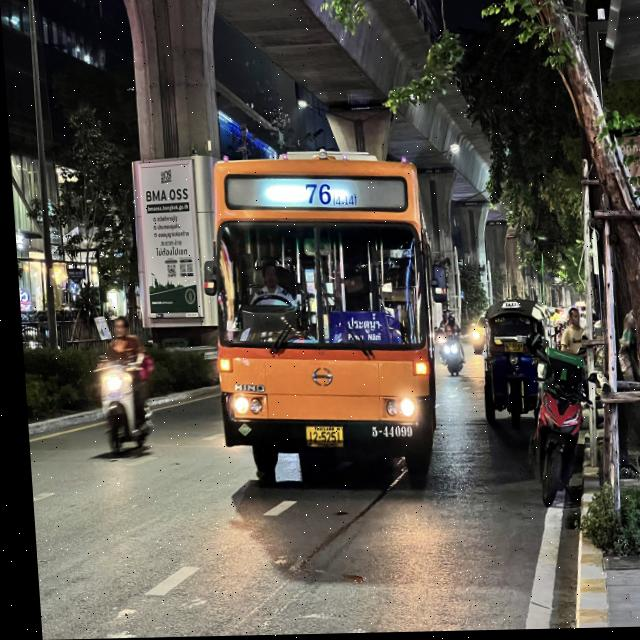BMTA-bus: (194, 143, 455, 490)
Bus-Line-Number: (295, 180, 357, 208)
Destination-Sign-Normal: (325, 311, 397, 347)
